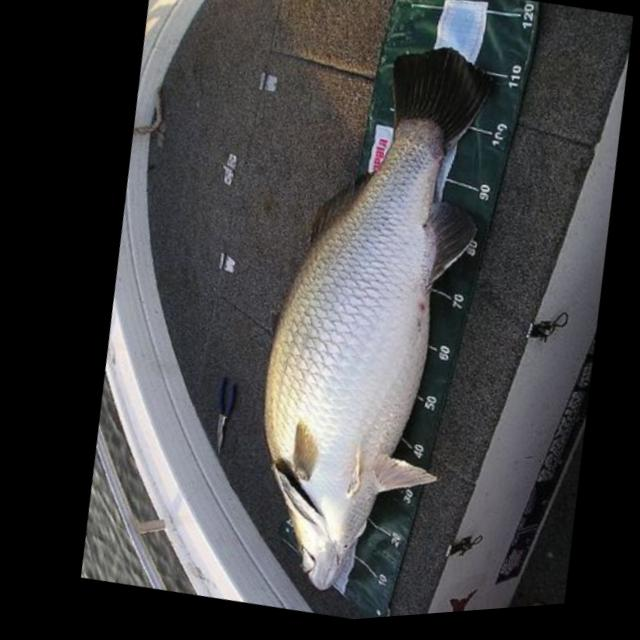Seabass: (179, 10, 559, 621)
